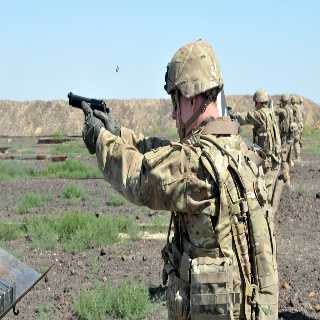pistol: (65, 90, 109, 114)
